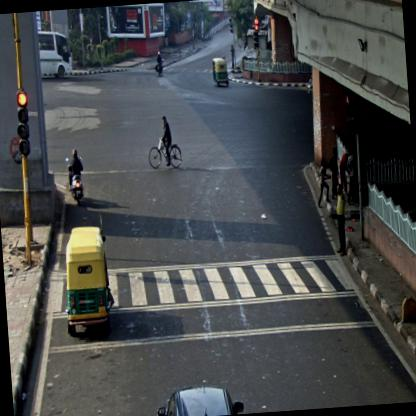bus: (37, 29, 74, 81)
car: (156, 384, 247, 415)
motorcycle: (147, 115, 184, 171), (63, 148, 88, 209), (154, 47, 166, 77)
